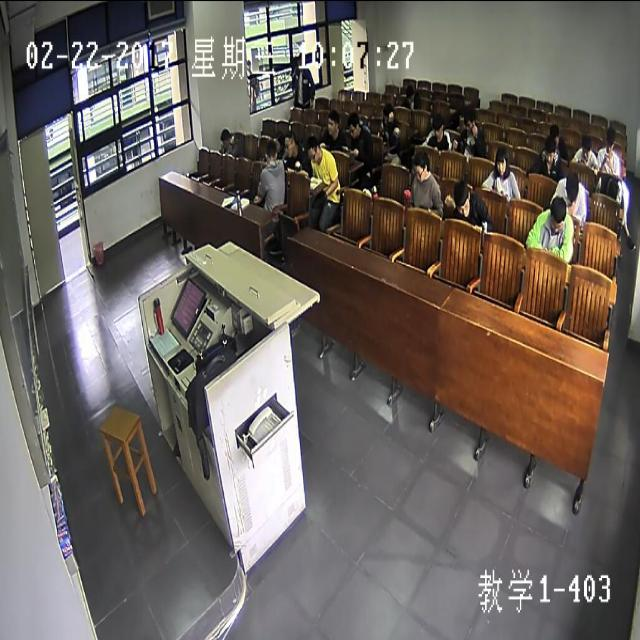person: (455, 182, 470, 218), (550, 198, 564, 235), (304, 137, 322, 162), (413, 154, 430, 180), (429, 114, 446, 138), (285, 128, 296, 159), (496, 150, 509, 175), (542, 144, 556, 166), (565, 176, 577, 201), (348, 113, 360, 137), (464, 110, 475, 134), (327, 109, 337, 135), (263, 138, 275, 159), (219, 125, 230, 146), (580, 138, 592, 157), (382, 106, 392, 125), (606, 130, 614, 153), (275, 129, 283, 151), (294, 51, 305, 65), (551, 123, 558, 144), (406, 86, 413, 105)
